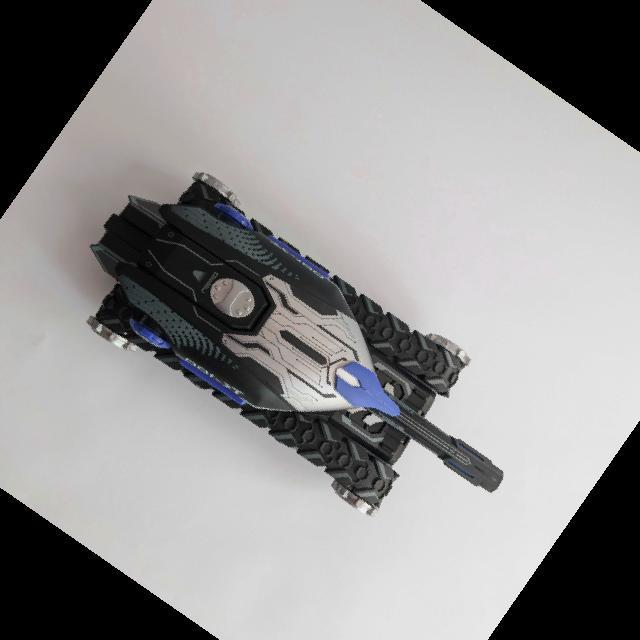barrel: (363, 388, 506, 493)
